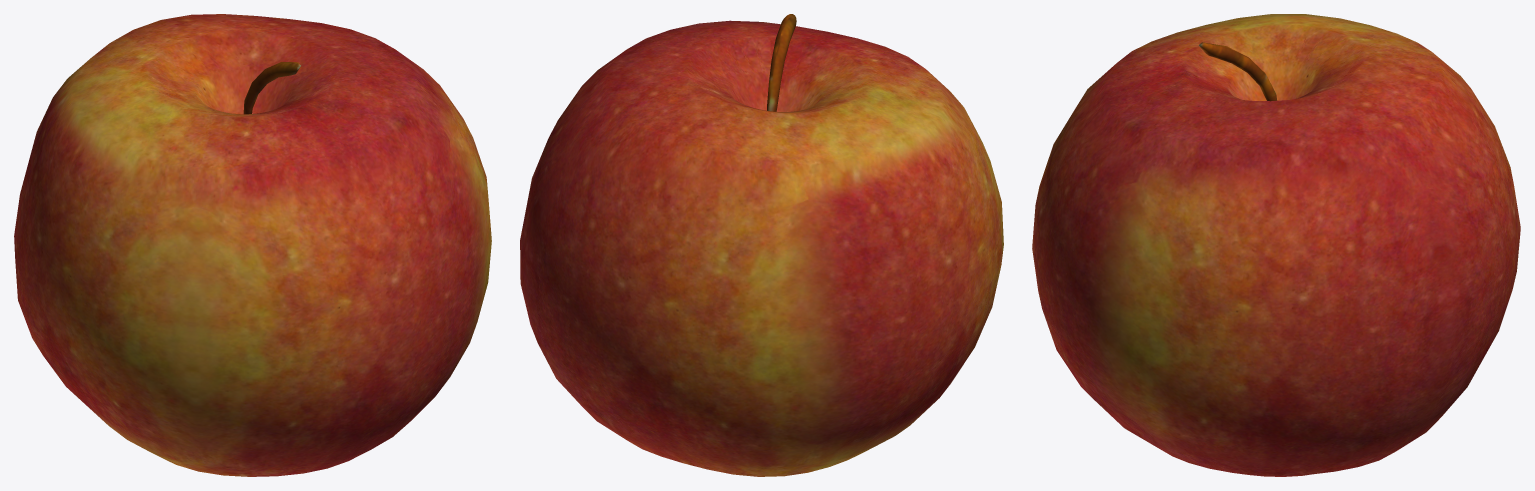
Rendered from Apple_FBX.fbx.
The picture shows the model from 3 angles, left to right: view 1: azimuth 30°, elevation 25°; view 2: azimuth 150°, elevation 25°; view 3: azimuth 270°, elevation 25°; orthographic projection.
Parts seen in each view (by area): view 1: Sphere07, Cylinder05; view 2: Sphere07, Cylinder05; view 3: Sphere07, Cylinder05.
Part boxes in pixels (left/top/right/bottom): Sphere07: left=14, top=14, right=491, bottom=476; Cylinder05: left=243, top=62, right=301, bottom=114; Sphere07: left=520, top=20, right=1003, bottom=476; Cylinder05: left=767, top=14, right=796, bottom=111; Sphere07: left=1032, top=14, right=1520, bottom=476; Cylinder05: left=1199, top=42, right=1277, bottom=101.
Size of the model in its own units: 10.42 by 9.69 by 10.62.
Materials: 1 (1 with a texture image).
